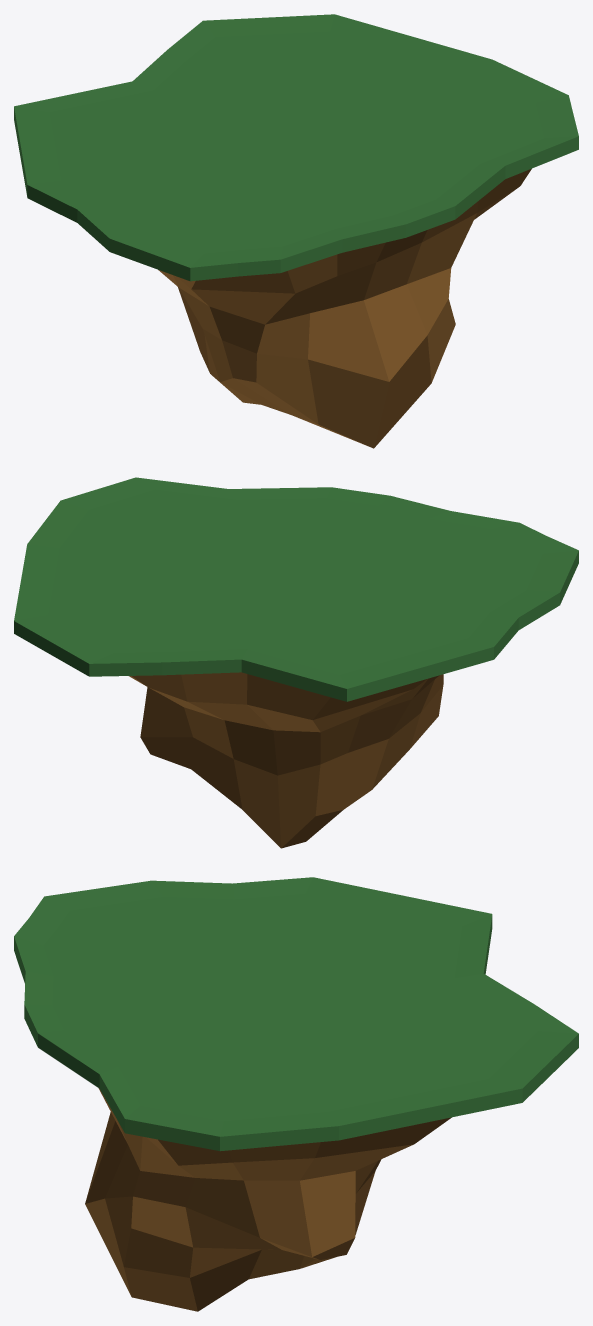
File: mediumIsland.fbx
The picture shows the model from 3 angles, top to bottom: view 1: azimuth 30°, elevation 25°; view 2: azimuth 150°, elevation 25°; view 3: azimuth 270°, elevation 25°; orthographic projection. The views are drawn at different scales.
Parts seen in each view (by area): view 1: Cube; view 2: Cube; view 3: Cube.
Part boxes in pixels (x1,y1,x2,y2): Cube: (14, 14, 578, 448); Cube: (14, 477, 578, 848); Cube: (14, 877, 578, 1311).
Bounding box in the file's own units: 549 × 288 × 505.
